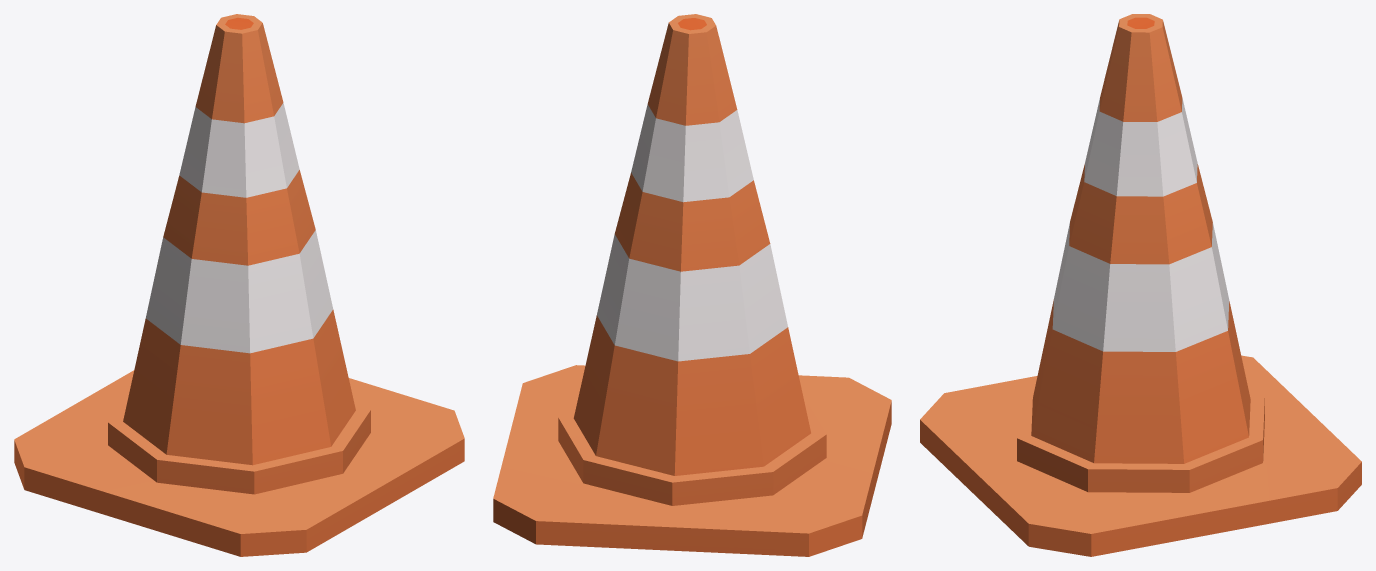
File: Infra_TrafficCone_mdl.fbx
The picture shows the model from 3 angles, left to right: view 1: azimuth 30°, elevation 25°; view 2: azimuth 150°, elevation 25°; view 3: azimuth 270°, elevation 25°; orthographic projection. The views are drawn at different scales.
Visible parts, largest first — view 1: cone_mesh; view 2: cone_mesh; view 3: cone_mesh.
Part boxes in pixels (x1=…): cone_mesh: x1=14, y1=14, x2=464, y2=556; cone_mesh: x1=493, y1=14, x2=891, y2=556; cone_mesh: x1=920, y1=14, x2=1361, y2=556.
Size of the model in its own units: 99.4 by 109 by 99.4.
